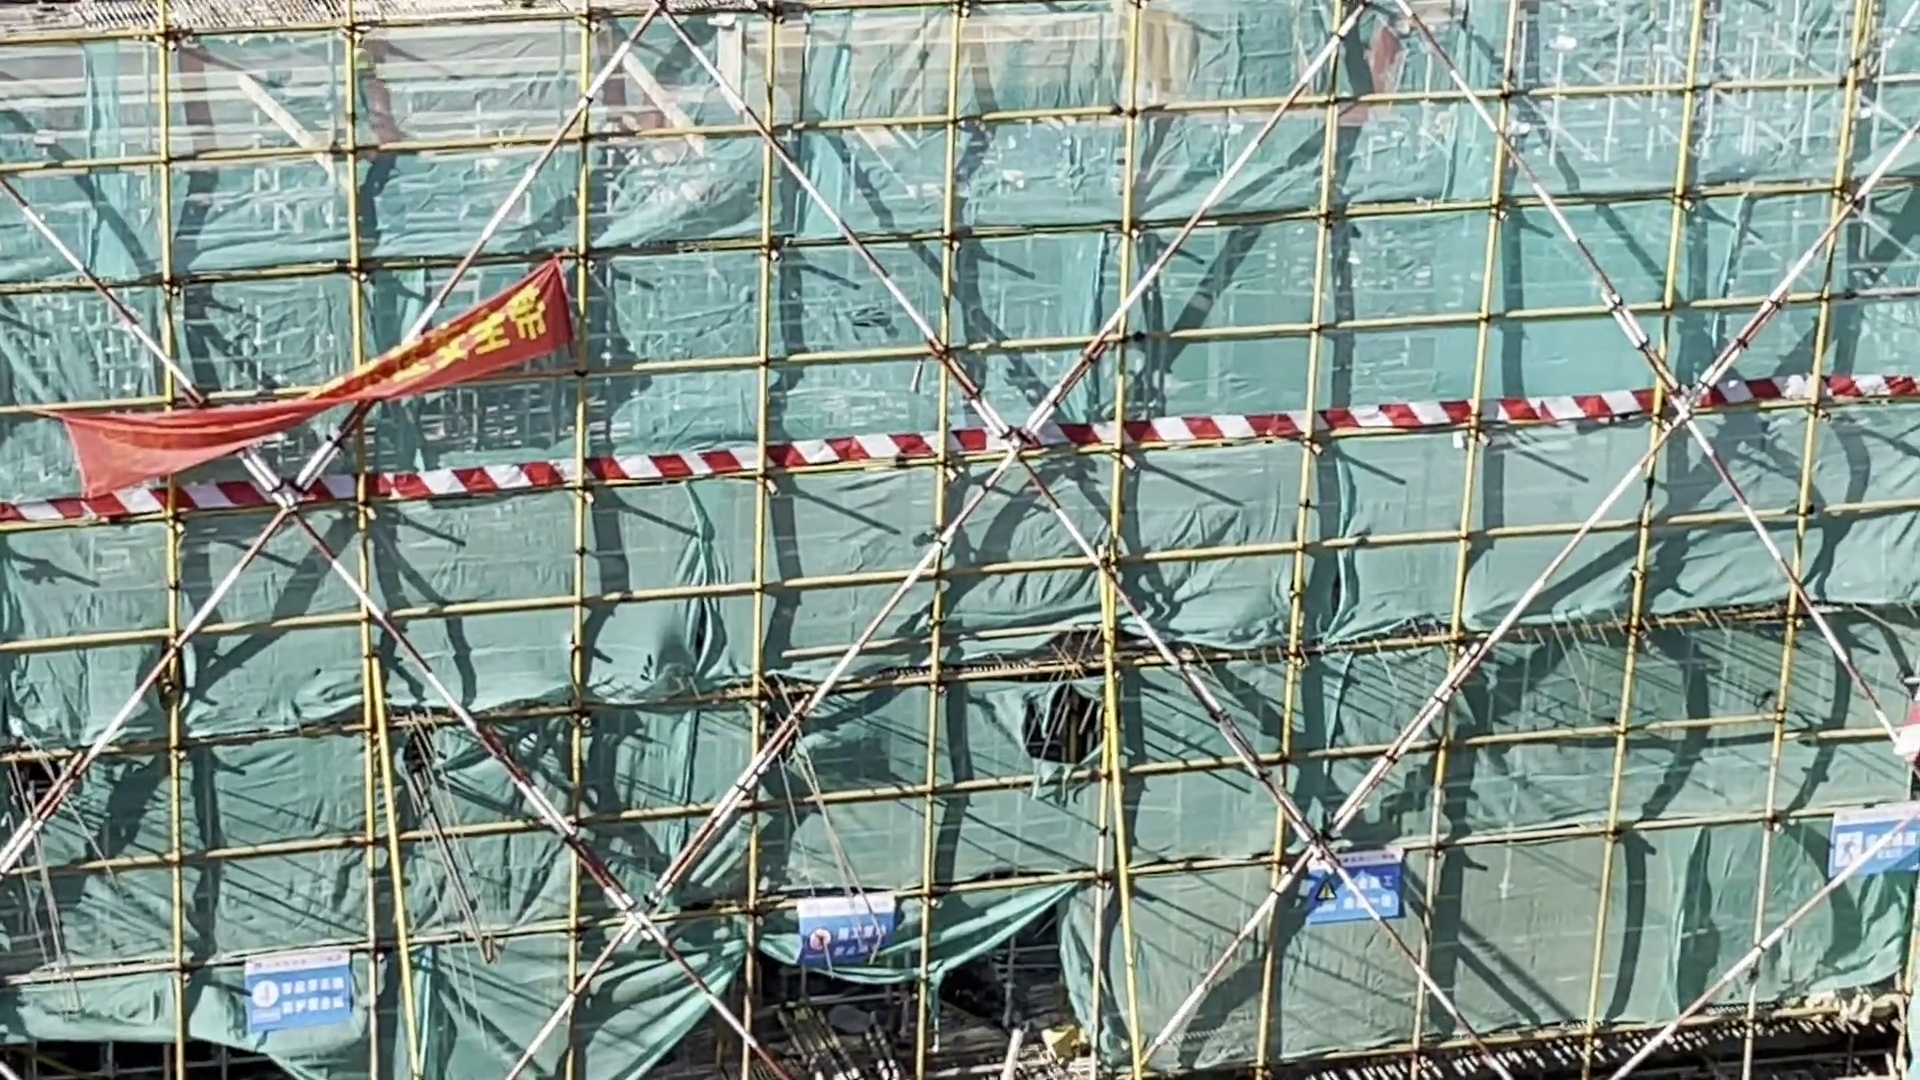slogan: (50, 243, 593, 542), (778, 860, 895, 984), (218, 930, 363, 1030), (1299, 819, 1408, 935), (1809, 796, 1920, 885)
